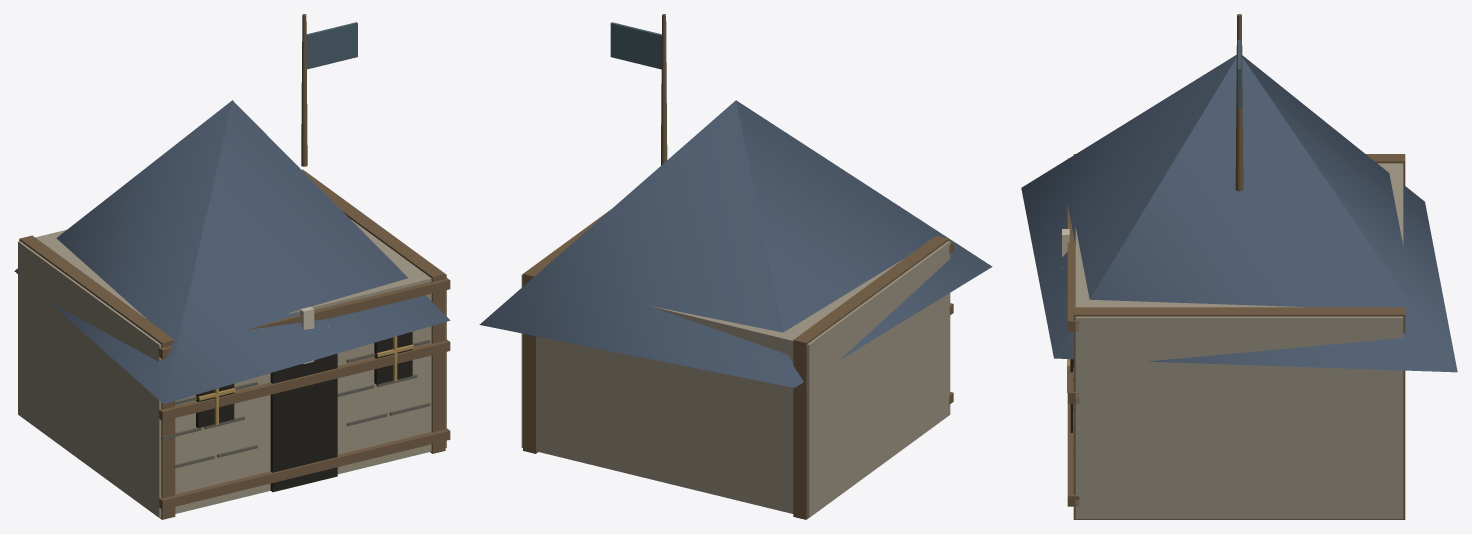
Rendered from b-healing-french.glb.
The picture shows the model from 3 angles, left to right: view 1: azimuth 30°, elevation 25°; view 2: azimuth 150°, elevation 25°; view 3: azimuth 270°, elevation 25°; orthographic projection. The views are drawn at different scales.
Visible parts, largest first — view 1: Structure; view 2: Structure; view 3: Structure.
Part boxes in pixels (x1=…): Structure: x1=14, y1=14, x2=450, y2=519; Structure: x1=479, y1=14, x2=992, y2=519; Structure: x1=1021, y1=14, x2=1457, y2=519.
Bounding box in the file's own units: 4.53 × 5.33 × 4.53.
